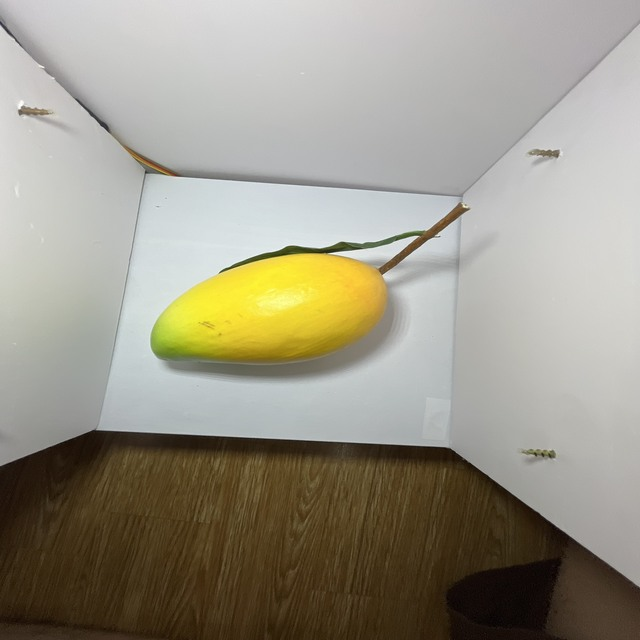Xoai: (131, 221, 411, 408)
